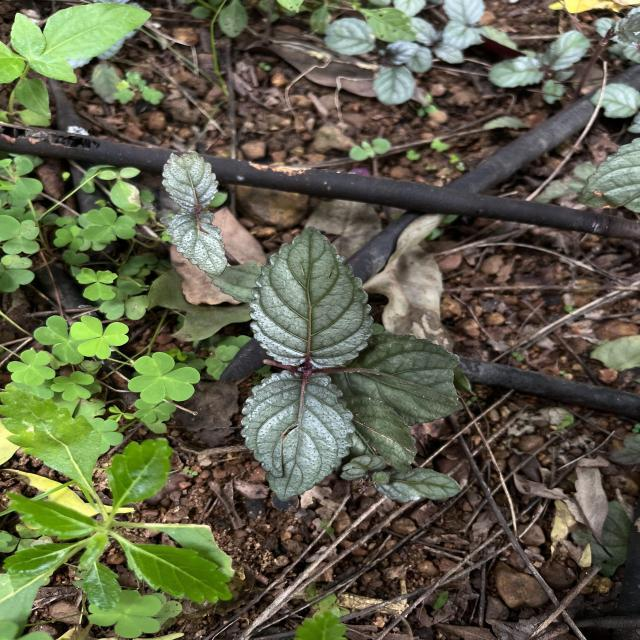Hemigraphis colorata: (247, 223, 376, 370), (235, 368, 358, 504), (323, 329, 470, 426), (162, 209, 233, 278), (158, 148, 222, 214)
